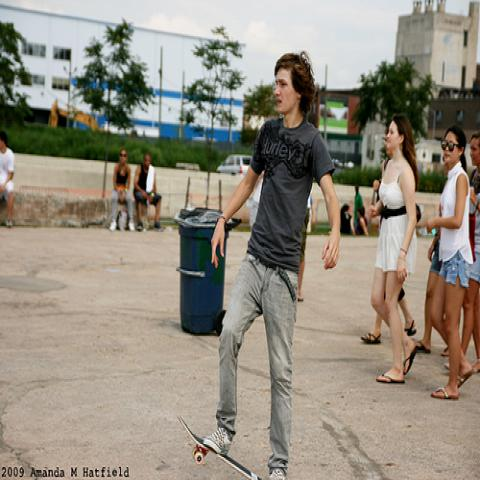car: (217, 155, 252, 176)
